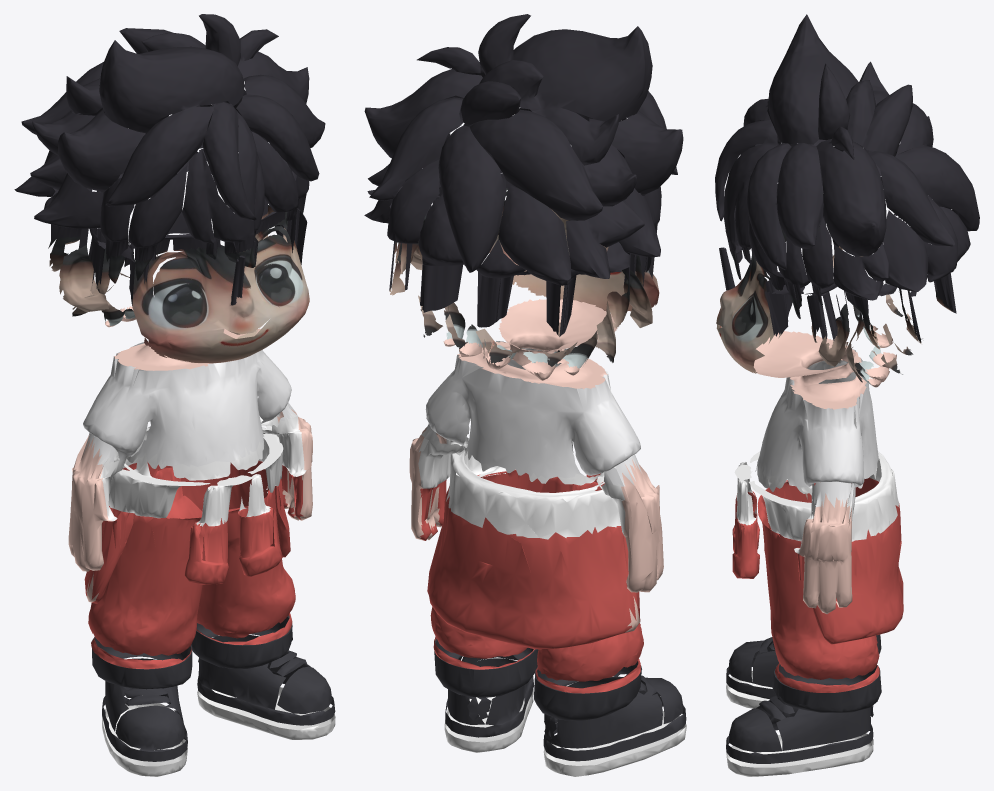
The model's file is chibi_restyle.glb.
3 renders of one model, left to right at view 1: azimuth 30°, elevation 25°; view 2: azimuth 150°, elevation 25°; view 3: azimuth 270°, elevation 25°, orthographic. The views are drawn at different scales.
Visible parts, largest first — view 1: Chibi; view 2: Chibi; view 3: Chibi.
Part boxes in pixels (x1=…): Chibi: x1=14, y1=14, x2=335, y2=776; Chibi: x1=364, y1=14, x2=686, y2=776; Chibi: x1=715, y1=14, x2=979, y2=776.
Bounding box in the file's own units: 0.743 × 1.8 × 0.6386.
Materials: 8 (1 with a texture image).
